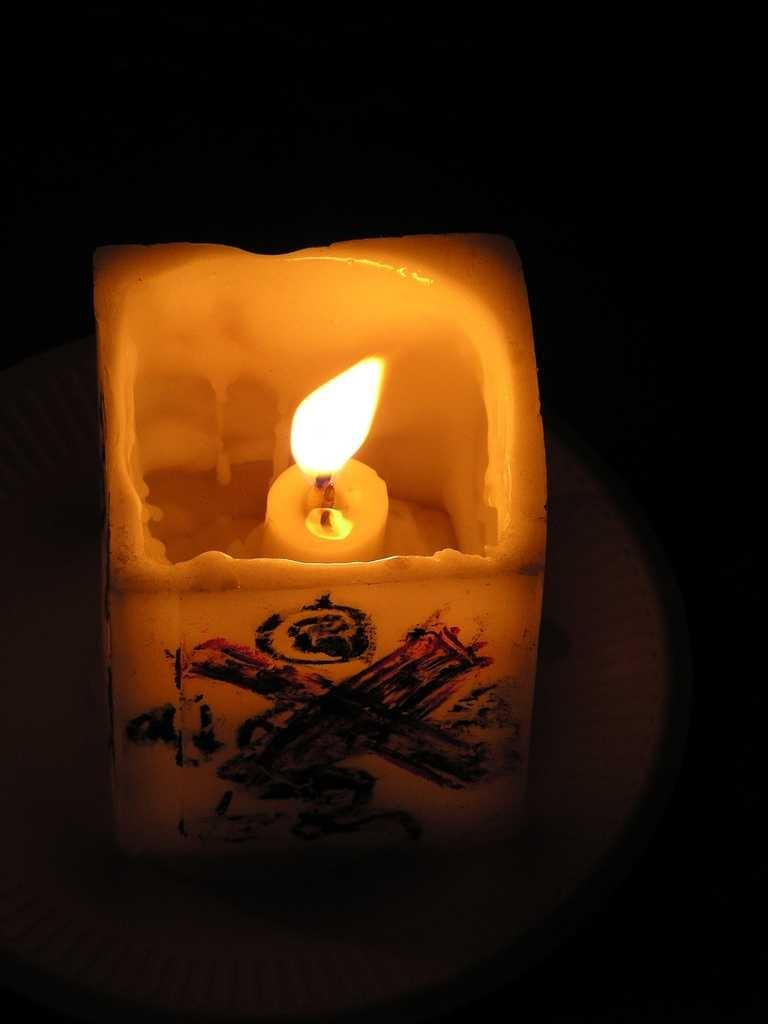fire: (286, 359, 391, 476)
